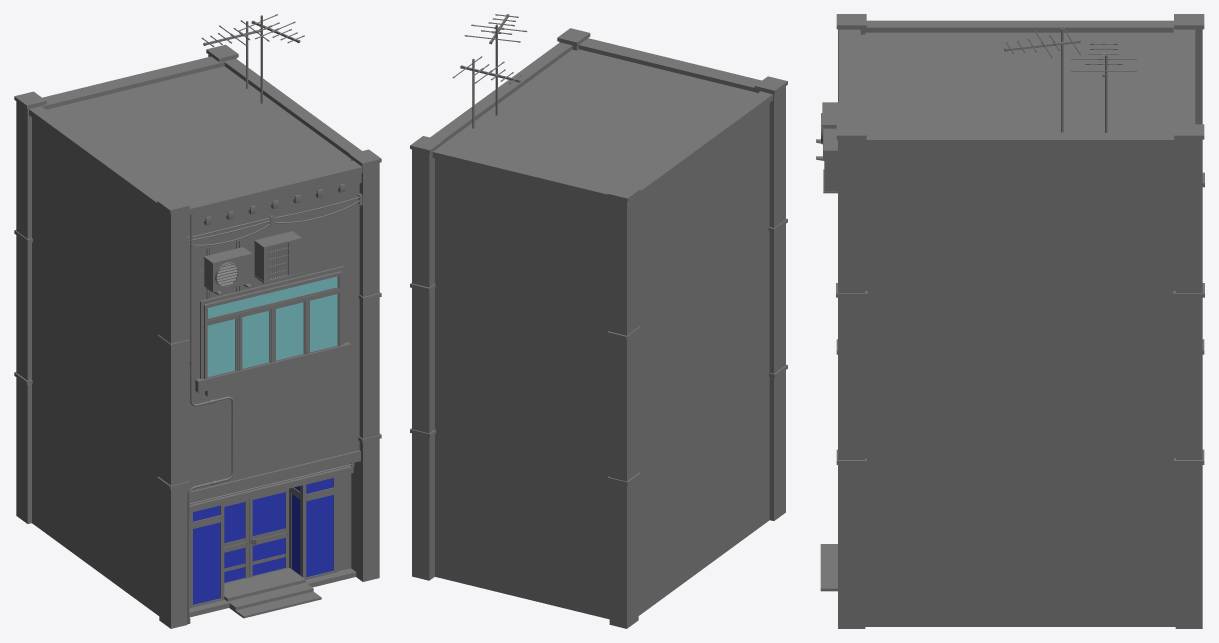
The model's file is SM_store_rowbuilding_03.fbx.
The picture shows the model from 3 angles, left to right: view 1: azimuth 30°, elevation 25°; view 2: azimuth 150°, elevation 25°; view 3: azimuth 270°, elevation 25°; orthographic projection. The views are drawn at different scales.
Parts seen in each view (by area): view 1: Box487; view 2: Box487; view 3: Box487.
Part boxes in pixels (box(x1,y1,x2,y2)): Box487: box(14, 14, 381, 628); Box487: box(410, 14, 787, 628); Box487: box(816, 14, 1204, 628).
Size of the model in its own units: 216 by 475 by 285.
